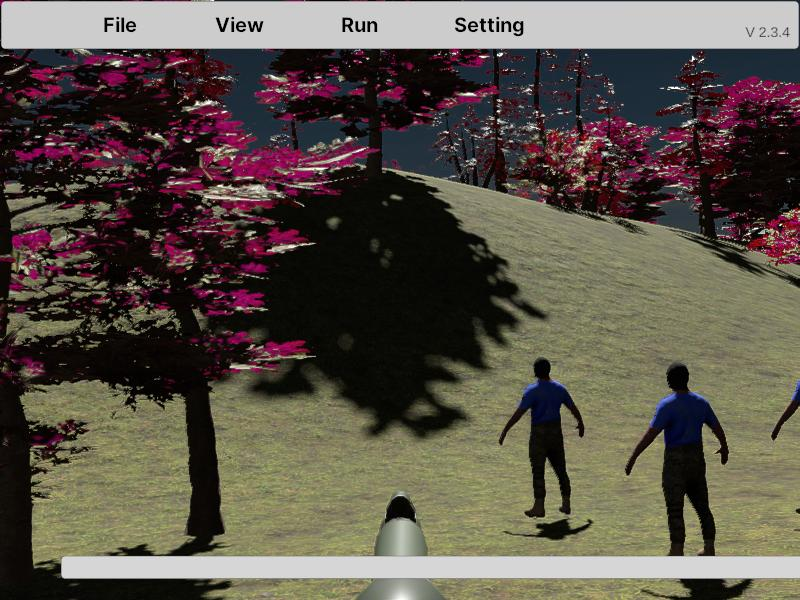Human: (624, 361, 729, 557), (499, 356, 585, 520), (771, 343, 800, 521)
